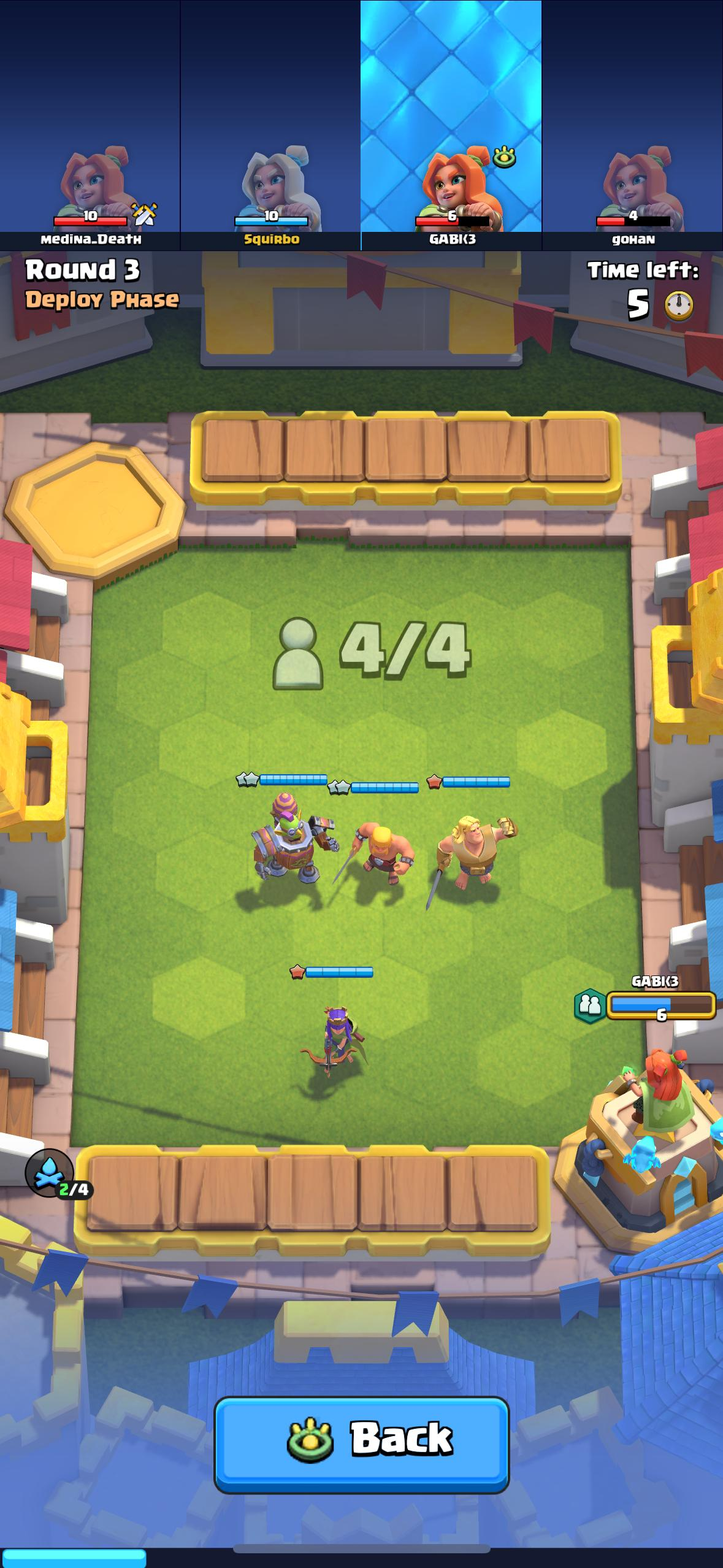barbarian: (346, 805, 413, 888)
golden: (426, 798, 520, 899)
machine: (250, 784, 338, 894)
queen: (299, 997, 368, 1073)
